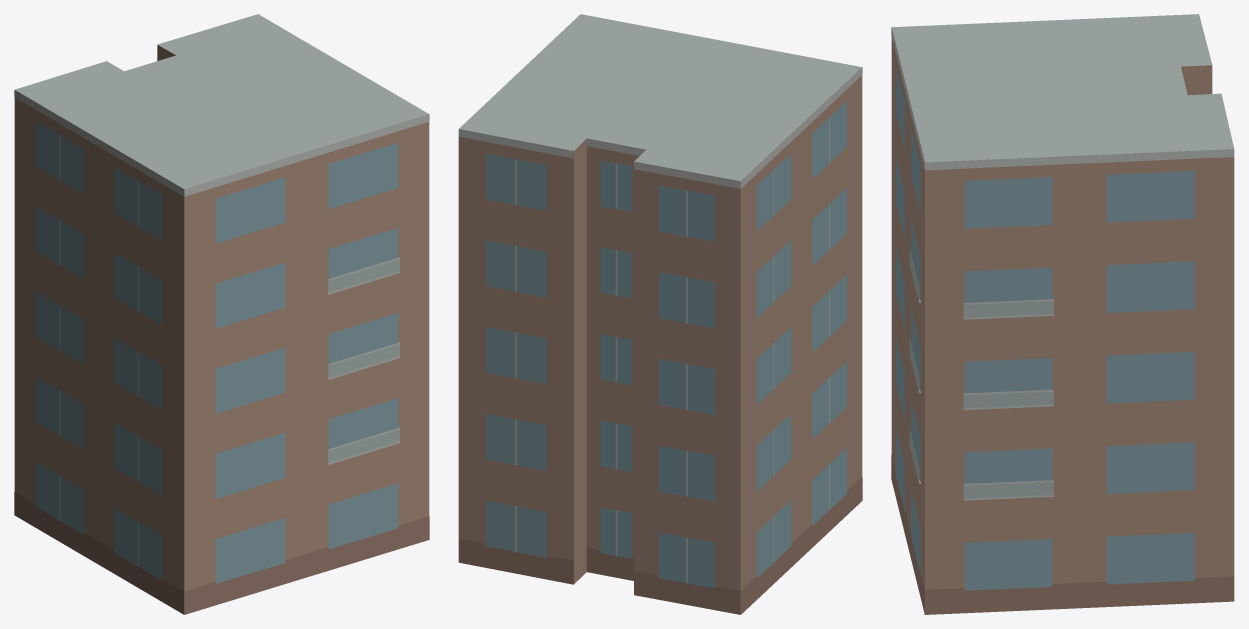
Rendered from survey-upis-32653377.glb.
3 renders of one model, left to right at view 1: azimuth 30°, elevation 25°; view 2: azimuth 150°, elevation 25°; view 3: azimuth 270°, elevation 25°, orthographic. The views are drawn at different scales.
Parts seen in each view (by area): view 1: survey-upis-32653377.tmp; view 2: survey-upis-32653377.tmp; view 3: survey-upis-32653377.tmp.
Part boxes in pixels (x1=…): survey-upis-32653377.tmp: x1=14, y1=14, x2=429, y2=614; survey-upis-32653377.tmp: x1=458, y1=14, x2=862, y2=614; survey-upis-32653377.tmp: x1=891, y1=14, x2=1234, y2=614.
Bounding box in the file's own units: 9.79 × 13.9 × 9.55.
